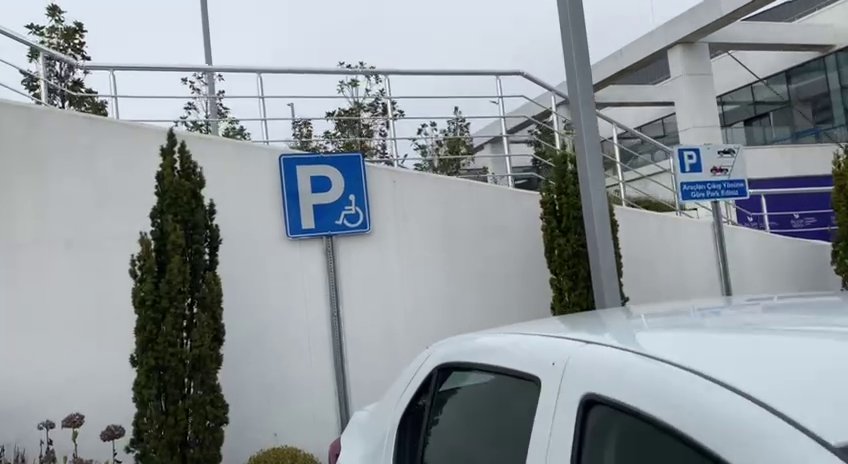parking: (279, 149, 373, 242), (677, 146, 703, 172)
